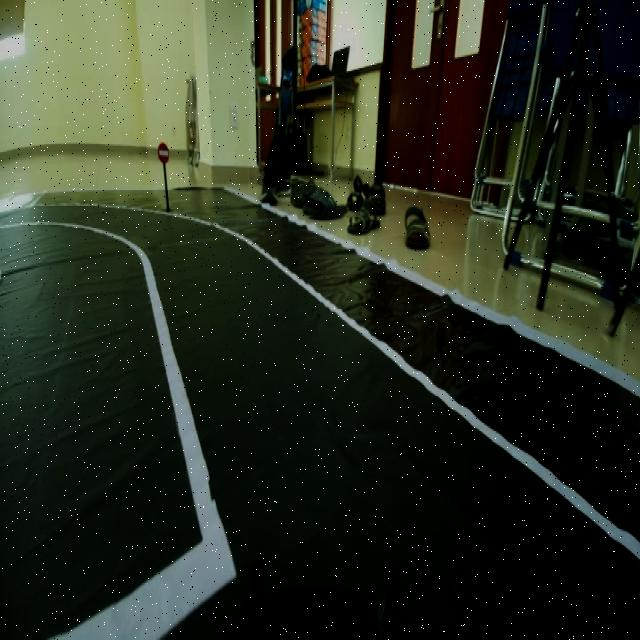no_entry: (158, 142, 171, 170)
